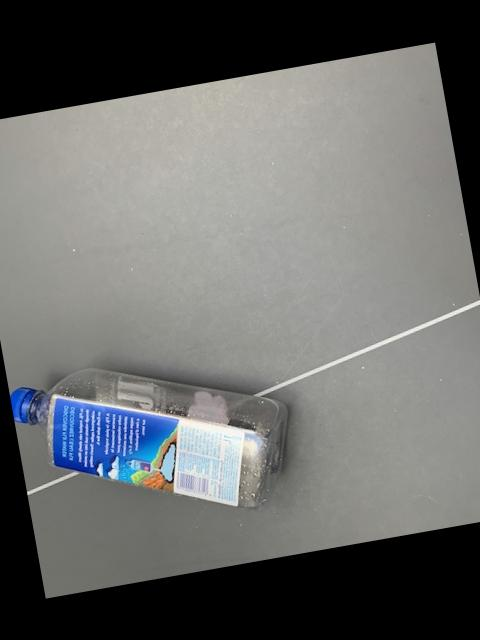plastic: (9, 367, 284, 506)
